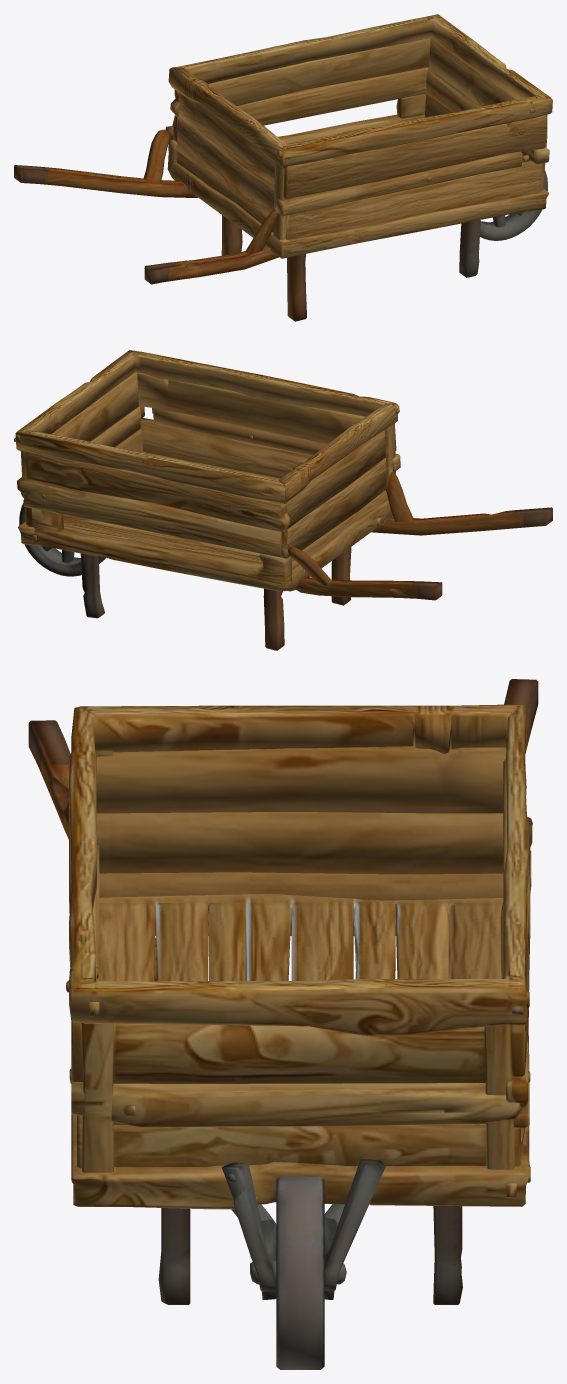
3 views of the same model, one above another, from view 1: azimuth 30°, elevation 25°; view 2: azimuth 150°, elevation 25°; view 3: azimuth 270°, elevation 25° (orthographic). The views are drawn at different scales.
Bounding box in the file's own units: 0.9995 × 0.3989 × 0.4692.
Materials: 1 (1 with a texture image).
